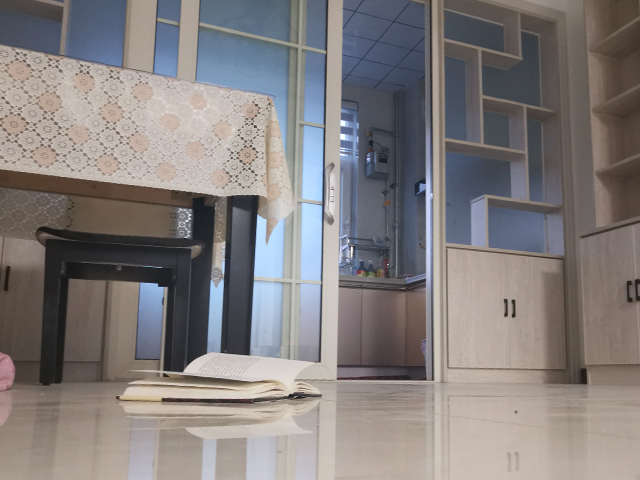book: (113, 350, 325, 404)
cabinet: (443, 216, 640, 388), (337, 272, 430, 382)
stool: (31, 194, 208, 387)
table: (1, 43, 279, 383)
